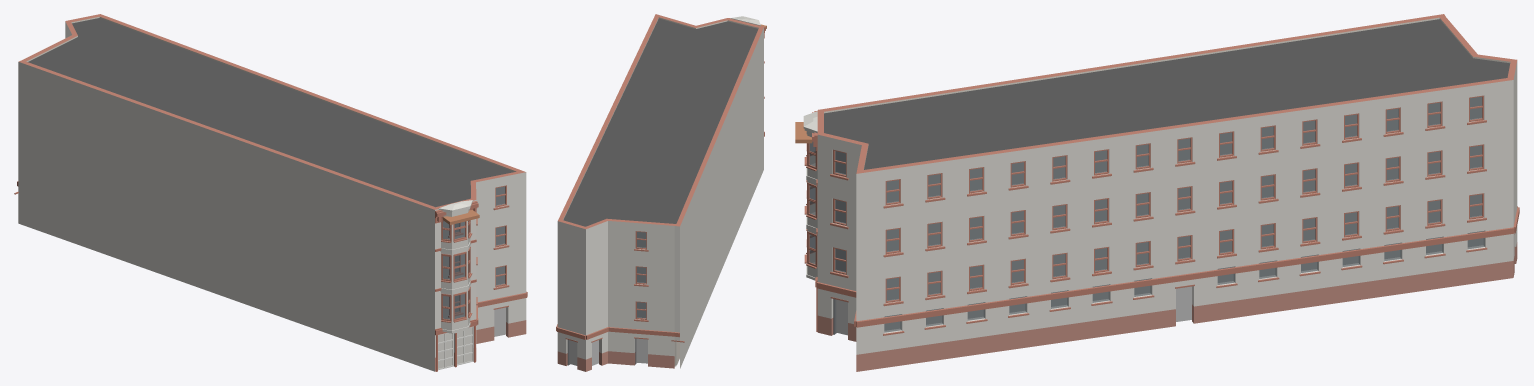
Rendered from exterior.glb.
3 renders of one model, left to right at view 1: azimuth 30°, elevation 25°; view 2: azimuth 150°, elevation 25°; view 3: azimuth 270°, elevation 25°, orthographic. The views are drawn at different scales.
Parts seen in each view (by area): view 1: shell, roof, bay-glazing-hyb, bay-windows-hyb, shadow-proxy, storefront, trim, hand-ornament, glazing, frames; view 2: shell, roof, shadow-proxy, trim, glazing, frames, storefront; view 3: shell, roof, glazing, shadow-proxy, trim, frames, bay-glazing-hyb, bay-windows-hyb.
Part boxes in pixels (x1,y1,x2,y2): shell: (18,14,526,371); roof: (28,18,513,207); bay-glazing-hyb: (441,210,472,322); bay-windows-hyb: (438,200,472,333); shadow-proxy: (443,186,505,336); storefront: (14,191,508,370); trim: (17,181,527,335); hand-ornament: (435,210,479,371); glazing: (455,186,505,311); frames: (449,185,506,314); shell: (557,14,763,371); roof: (563,18,758,226); shadow-proxy: (570,232,676,365); trim: (556,18,765,339); glazing: (637,232,646,318); frames: (635,231,646,319); storefront: (565,337,684,365); shell: (817,14,1517,371); roof: (824,19,1510,169); glazing: (835,96,1484,332); shadow-proxy: (836,97,1483,335); trim: (812,111,1519,335); frames: (833,95,1483,302); bay-glazing-hyb: (804,141,817,268); bay-windows-hyb: (803,111,817,280).
Size of the model in its own units: 20.47 by 11.71 by 38.32.
